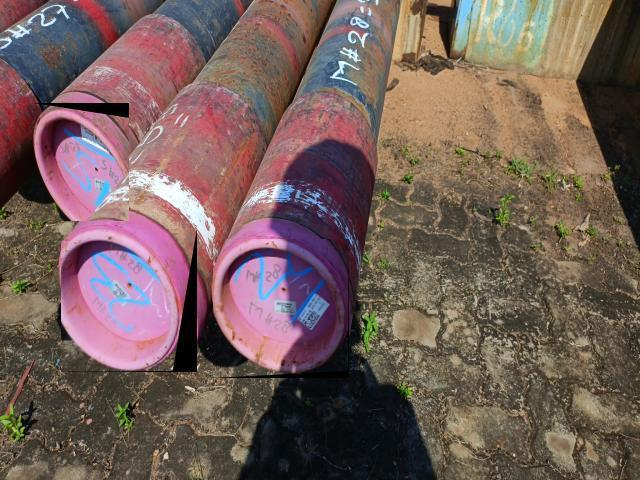pipe: (61, 229, 197, 372), (213, 239, 349, 378), (33, 103, 129, 221)
